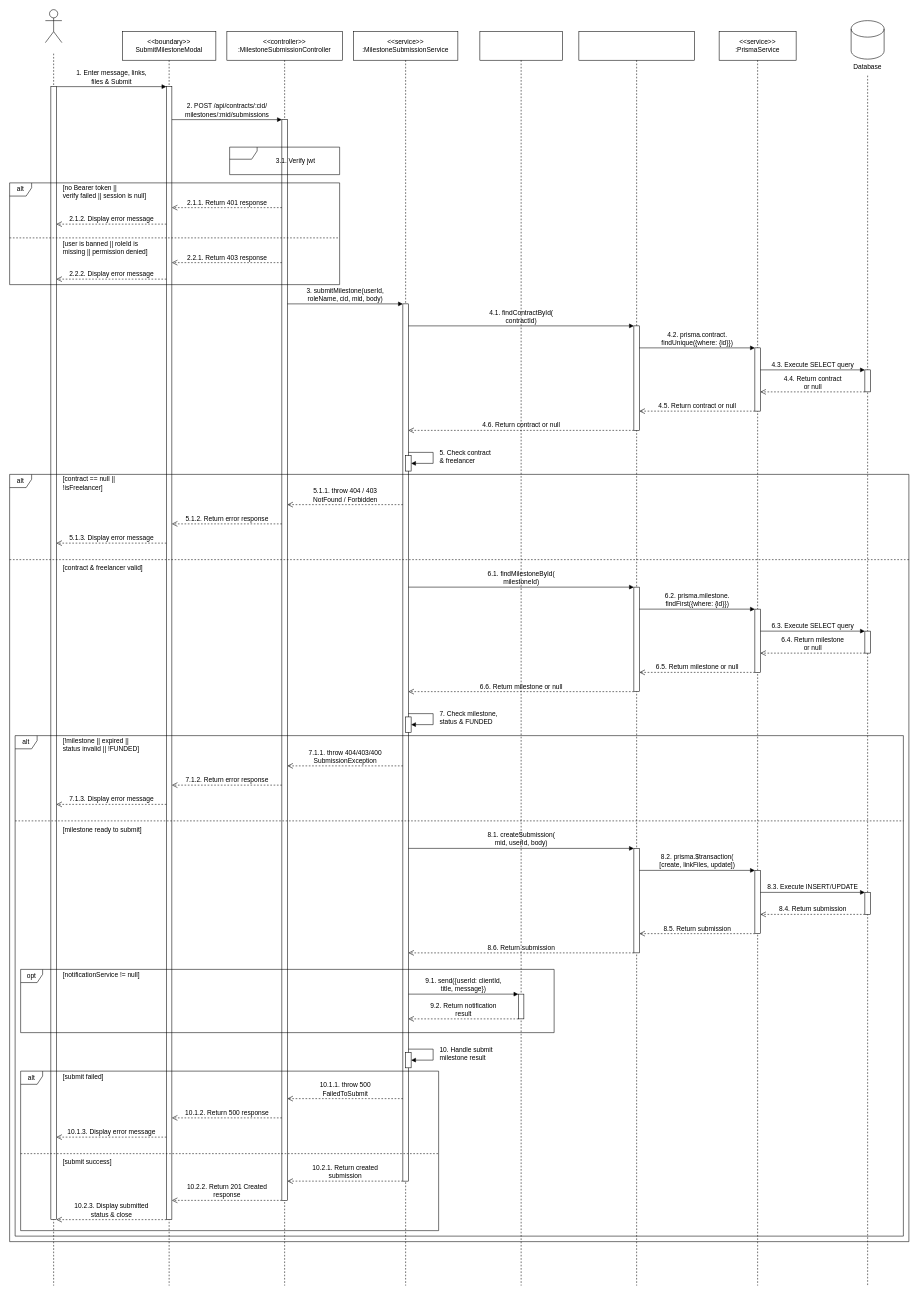
The diagram is 919 pixels wide and 1296 high, and some of its shapes have lost their labels. The shapes that lost their labels are listed below. From the top down, each one's box as (x1, y1, x2, y2) in pixels, then its label:
(45, 9, 62, 43): Freelancer
(229, 147, 340, 175): ref
(479, 31, 562, 1286): <<service>> :NotificationService
(578, 31, 694, 1286): <<repository>> :MilestoneSubmissionRepository
